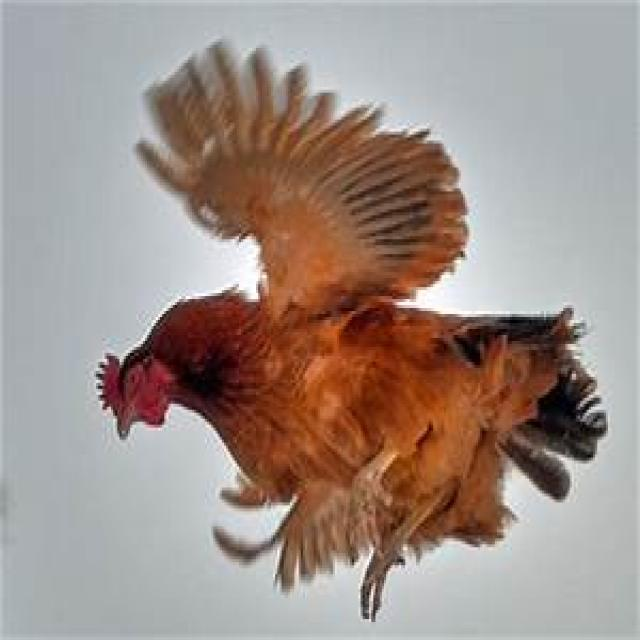hen: (94, 42, 608, 625)
